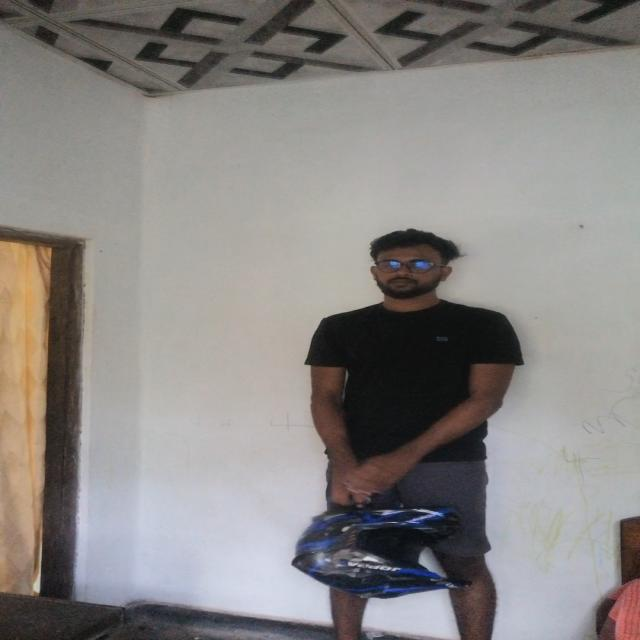Person: (292, 225, 529, 640)
